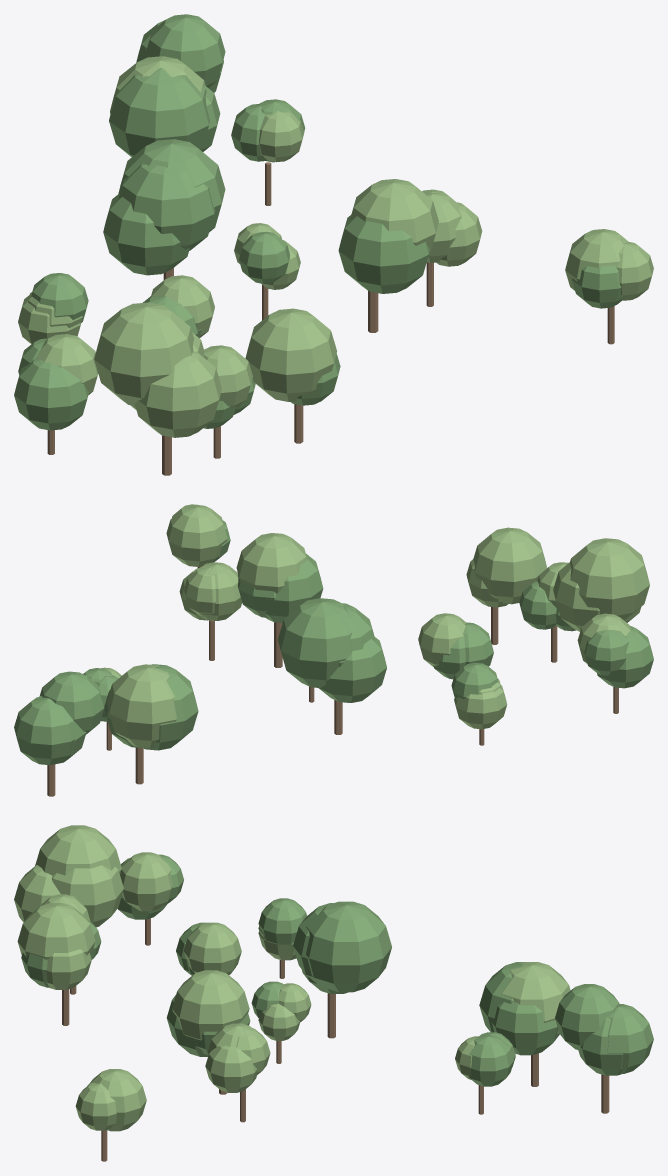
Rendered from urban_forest.glb.
3 renders of one model, top to bottom at view 1: azimuth 30°, elevation 25°; view 2: azimuth 150°, elevation 25°; view 3: azimuth 270°, elevation 25°, orthographic. The views are drawn at different scales.
Parts seen in each view (by area): view 1: Sphere.001, Sphere, Cylinder; view 2: Sphere, Sphere.001, Cylinder; view 3: Sphere, Sphere.001, Cylinder.
Part boxes in pixels (x1=…): Sphere.001: x1=14, y1=14, x2=623, y2=430; Sphere: x1=18, y1=56, x2=653, y2=437; Cylinder: x1=47, y1=162, x2=614, y2=475; Sphere: x1=102, y1=504, x2=649, y2=748; Sphere.001: x1=14, y1=520, x2=653, y2=765; Cylinder: x1=47, y1=566, x2=618, y2=796; Sphere: x1=14, y1=825, x2=570, y2=1131; Sphere.001: x1=21, y1=854, x2=653, y2=1086; Cylinder: x1=62, y1=918, x2=609, y2=1161.
Bounding box in the file's own units: 38.02 × 9.89 × 41.96.
